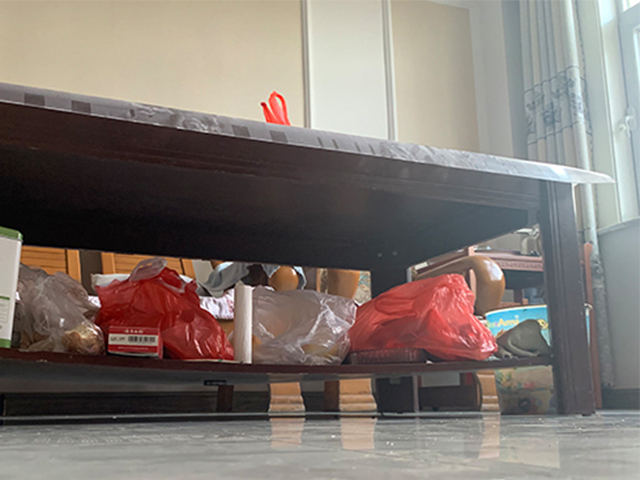curtain: (518, 1, 616, 390)
table: (1, 81, 598, 418)
